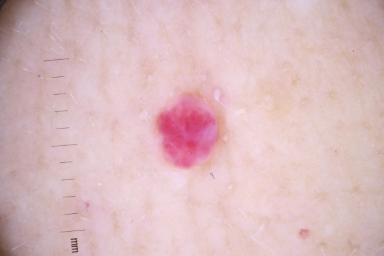melanoma: (157, 95, 224, 172)
